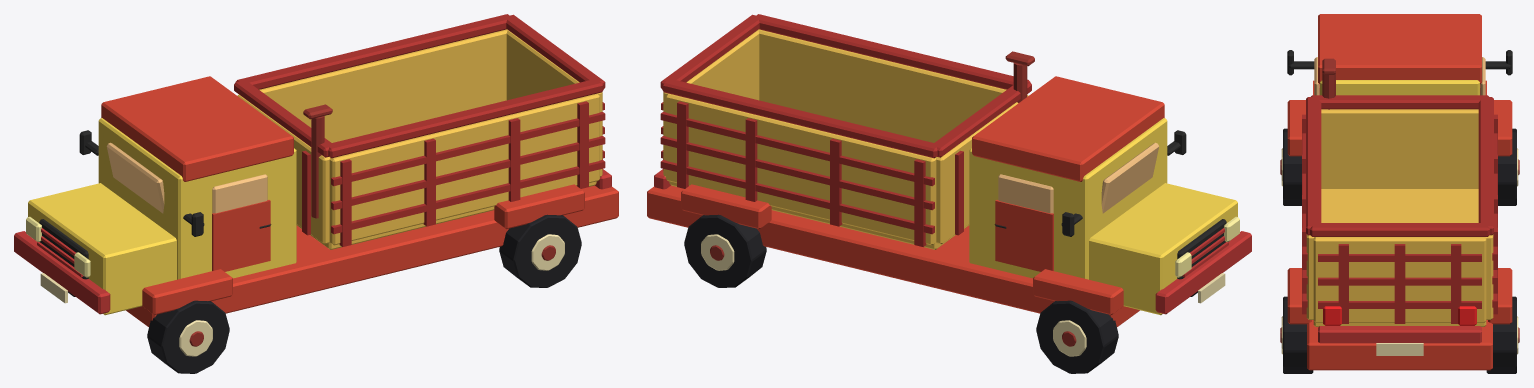
Rendered from Truck.fbx.
3 renders of one model, left to right at view 1: azimuth 30°, elevation 25°; view 2: azimuth 150°, elevation 25°; view 3: azimuth 270°, elevation 25°, orthographic. The views are drawn at different scales.
Parts seen in each view (by area): view 1: Left Cargo Side Wall, Right Cargo Side Wall, Main Chassis, Cabin Roof, Driver Cabin, Front Hood, Left Cargo Top Edge, Right Cargo Top Edge, Left Wheel -2.65 Tire, Left Wheel 1.95 Tire, Left Door Outline, Rear Cargo Tailgate (+21 smaller); view 2: Left Cargo Side Wall, Right Cargo Side Wall, Main Chassis, Cabin Roof, Driver Cabin, Front Hood, Right Cargo Top Edge, Left Cargo Top Edge, Right Wheel -2.65 Tire, Right Wheel 1.95 Tire, Right Door Outline, Rear Cargo Tailgate (+20 smaller); view 3: Front Cargo Wall, Cabin Roof, Rear Cargo Tailgate, Cargo Bed Floor, Main Chassis, Rear Bumper, Rear Cargo Top Edge, Front Cargo Top Edge, Driver Cabin, Right Cargo Top Edge, Left Cargo Top Edge, Rear Tailgate Horizontal Plank 1.58 (+26 smaller).
Boxes of the visible parts, <box> form: Left Cargo Side Wall: <box>329,93,599,245</box>; Right Cargo Side Wall: <box>259,29,507,142</box>; Main Chassis: <box>126,185,618,326</box>; Cabin Roof: <box>101,76,293,181</box>; Driver Cabin: <box>98,118,296,279</box>; Front Hood: <box>28,183,176,315</box>; Left Cargo Top Edge: <box>326,80,603,158</box>; Right Cargo Top Edge: <box>235,14,509,89</box>; Left Wheel -2.65 Tire: <box>147,300,229,373</box>; Left Wheel 1.95 Tire: <box>499,214,581,287</box>; Left Door Outline: <box>212,200,270,271</box>; Rear Cargo Tailgate: <box>506,29,602,176</box>; Left Cargo Side Wall: <box>758,29,1006,142</box>; Right Cargo Side Wall: <box>666,93,936,245</box>; Main Chassis: <box>647,185,1139,326</box>; Cabin Roof: <box>972,76,1164,181</box>; Driver Cabin: <box>969,118,1167,279</box>; Front Hood: <box>1089,183,1237,315</box>; Right Cargo Top Edge: <box>662,79,937,158</box>; Left Cargo Top Edge: <box>753,14,1030,89</box>; Right Wheel -2.65 Tire: <box>1036,300,1118,373</box>; Right Wheel 1.95 Tire: <box>684,214,766,287</box>; Right Door Outline: <box>995,200,1053,271</box>; Rear Cargo Tailgate: <box>663,29,759,176</box>; Front Cargo Wall: <box>1321,109,1478,188</box>; Cabin Roof: <box>1318,14,1481,83</box>; Rear Cargo Tailgate: <box>1313,237,1486,322</box>; Cargo Bed Floor: <box>1313,189,1486,326</box>; Main Chassis: <box>1307,320,1492,370</box>; Rear Bumper: <box>1318,326,1481,343</box>; Rear Cargo Top Edge: <box>1310,223,1489,236</box>; Front Cargo Top Edge: <box>1311,95,1488,109</box>; Driver Cabin: <box>1320,80,1479,95</box>; Right Cargo Top Edge: <box>1478,97,1493,235</box>; Left Cargo Top Edge: <box>1306,97,1321,235</box>; Rear Tailgate Horizontal Plank 1.58: <box>1318,277,1481,285</box>.
Bounding box in the file's own units: 680 × 266 × 277.
